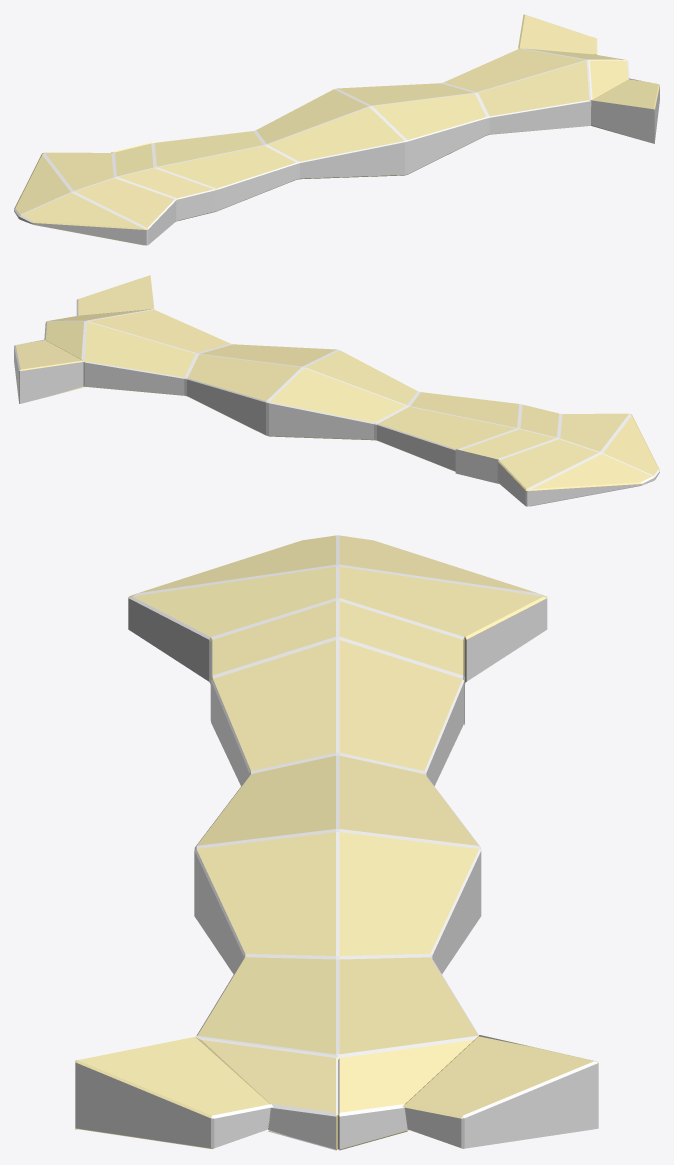
File: Bone.fbx
3 views of the same model, one above another, from view 1: azimuth 30°, elevation 25°; view 2: azimuth 150°, elevation 25°; view 3: azimuth 270°, elevation 25° (orthographic). The views are drawn at different scales.
Visible parts, largest first — view 1: Plane; view 2: Plane; view 3: Plane.
Boxes of the visible parts, x1,y1,x2,y2 form: Plane: (14, 14, 659, 245); Plane: (14, 275, 659, 506); Plane: (75, 535, 598, 1150).
Bounding box in the file's own units: 841 × 67.79 × 313.
